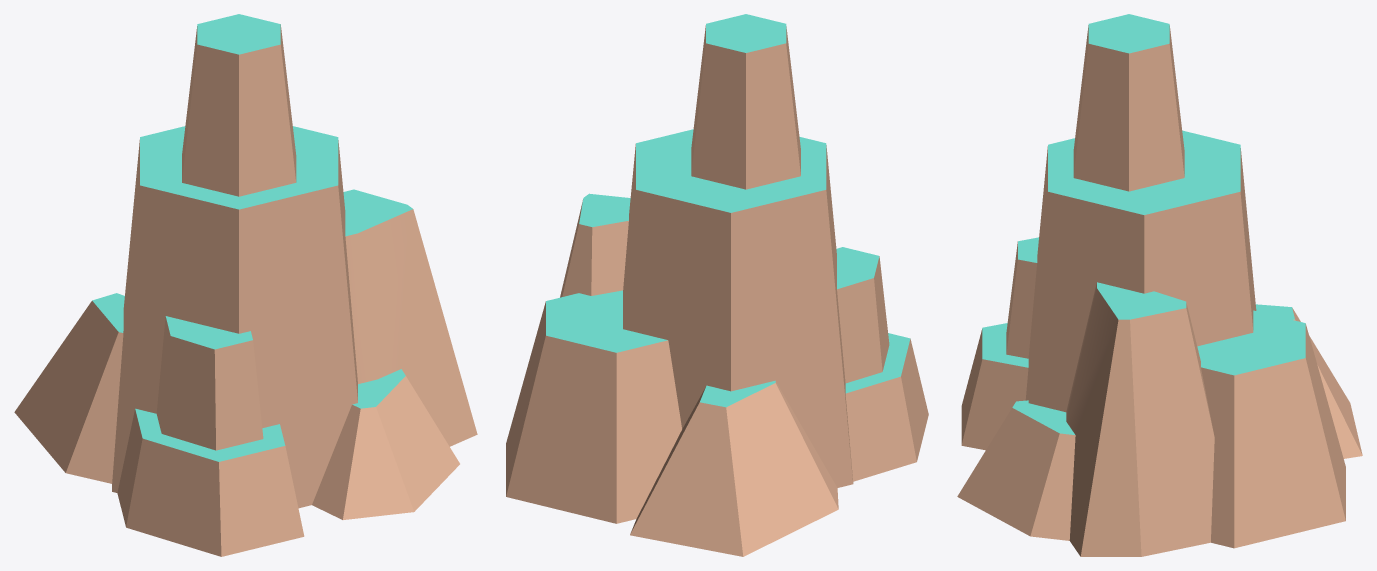
File: rock_tallB.opt.glb
The picture shows the model from 3 angles, left to right: view 1: azimuth 30°, elevation 25°; view 2: azimuth 150°, elevation 25°; view 3: azimuth 270°, elevation 25°; orthographic projection. The views are drawn at different scales.
Visible parts, largest first — view 1: rock_tallB; view 2: rock_tallB; view 3: rock_tallB.
Boxes of the visible parts, x1,y1,x2,y2 form: rock_tallB: [14, 14, 477, 556]; rock_tallB: [506, 14, 928, 556]; rock_tallB: [957, 14, 1362, 556].
Bounding box in the file's own units: 0.7648 × 0.8838 × 0.7701.
